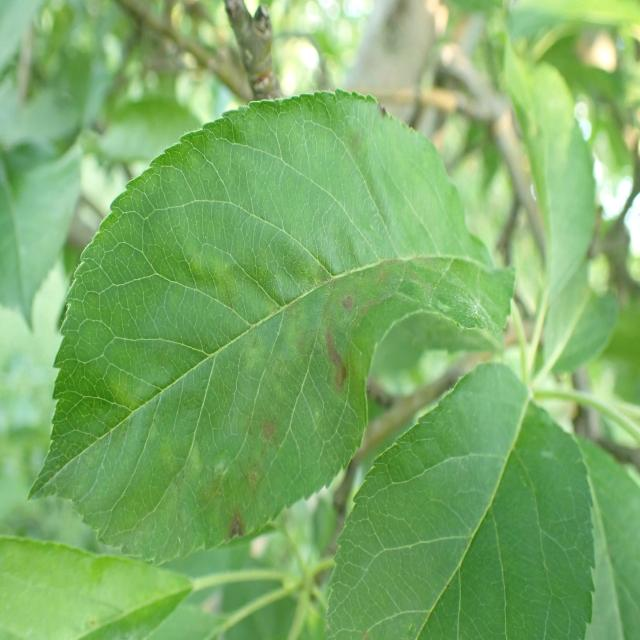scab: (131, 209, 501, 554)
